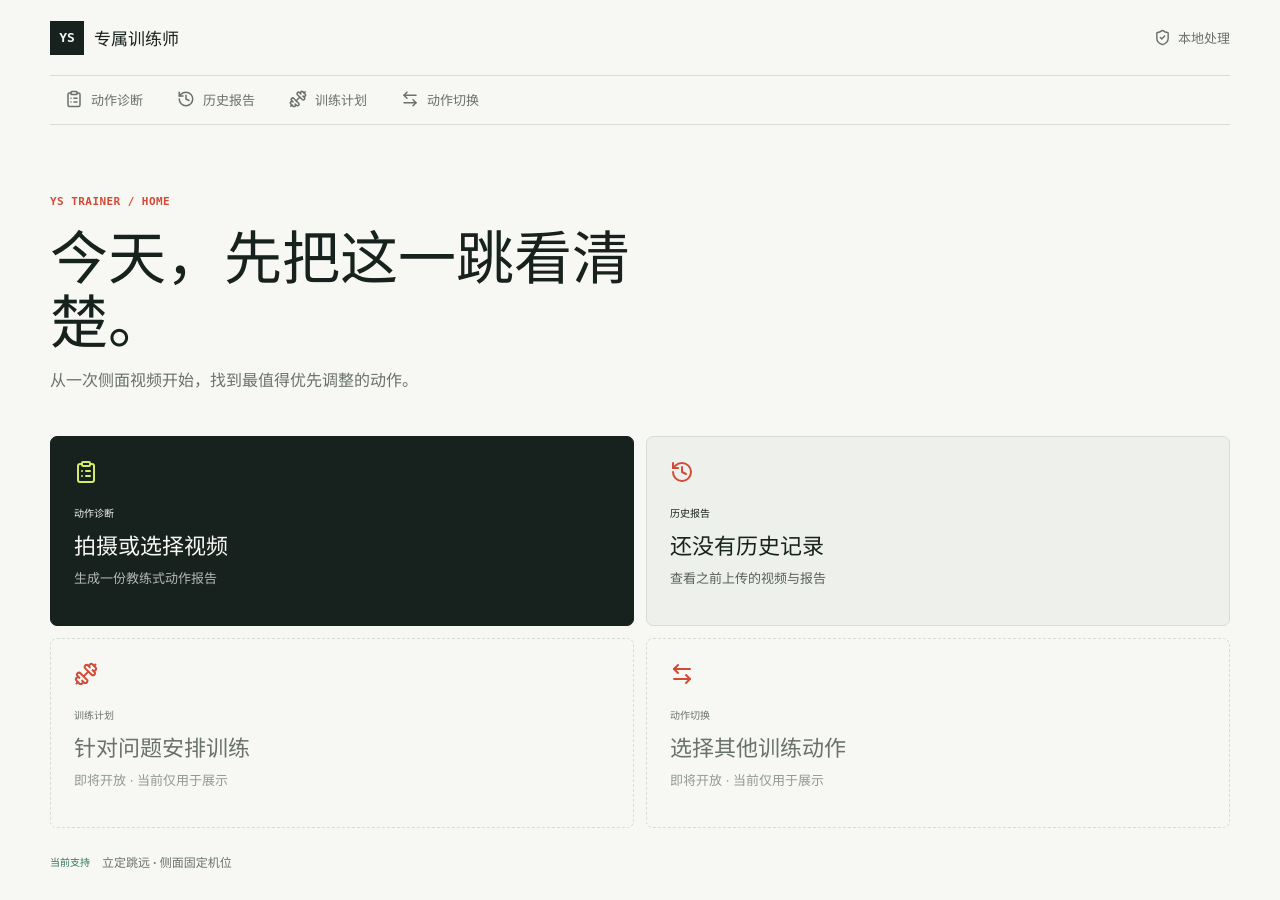
Test: 视频准备页 › 训练计划和动作切换显示 MVP 占位状态
Click the button "训练计划": click(328, 100) [274,76,382,124]
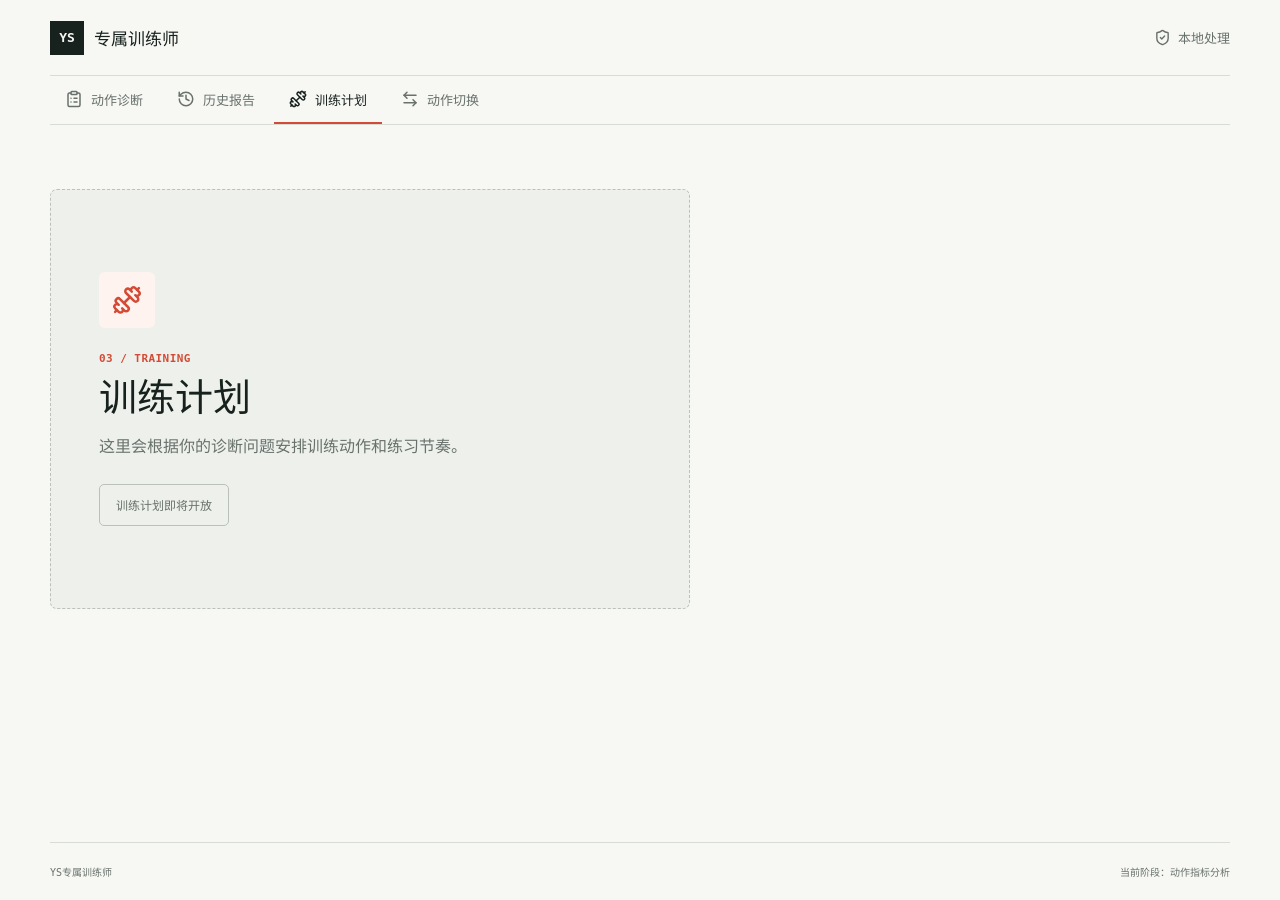
Expected: the heading "训练计划" is shown, [99,377,251,421]
Expected: the button "训练计划即将开放" is disabled, [99,484,229,526]
Click the button "动作切换": click(440, 100) [386,76,494,124]
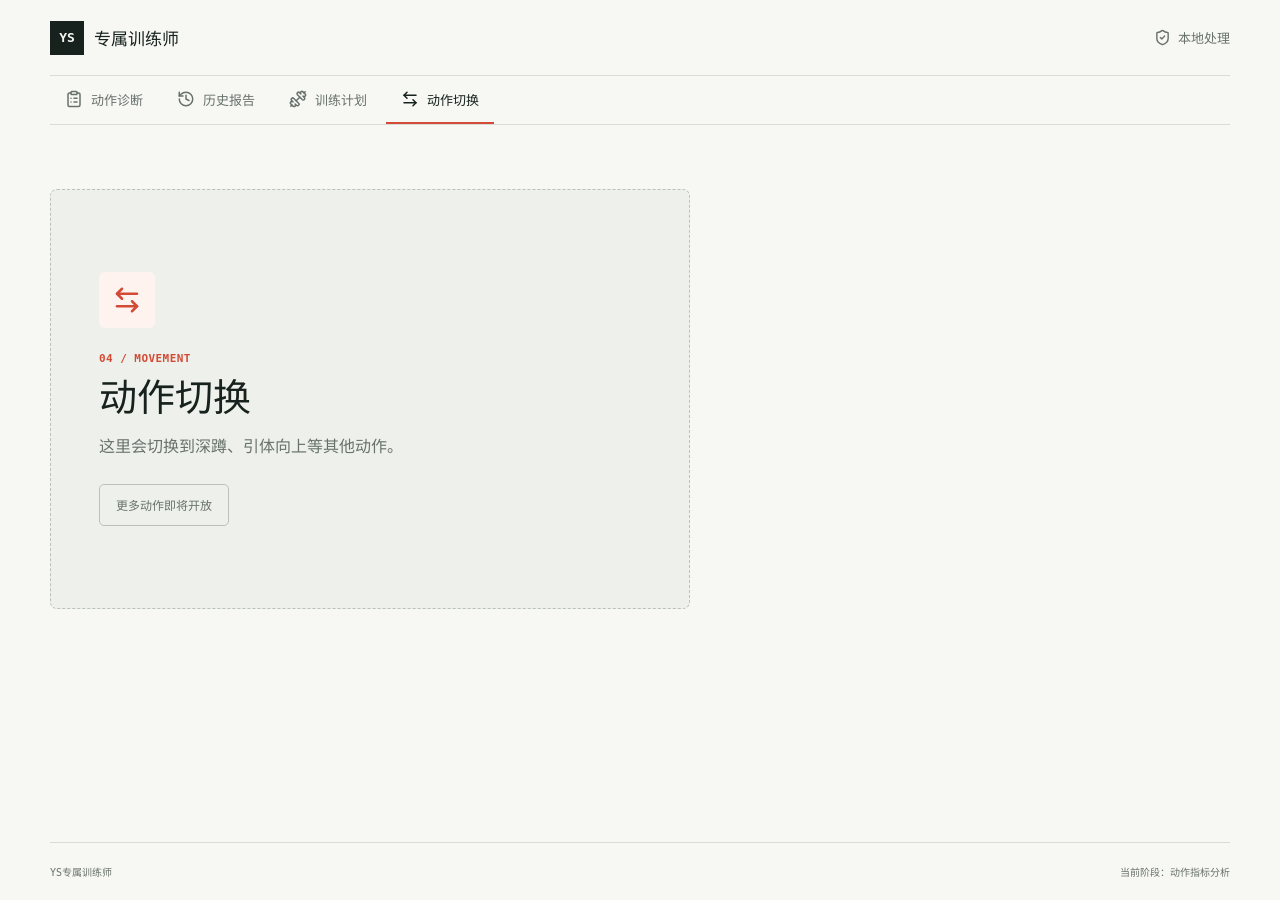
Expected: the button "更多动作即将开放" is disabled, [99,484,229,526]
Expected: the heading "动作切换" is shown, [99,377,251,421]
